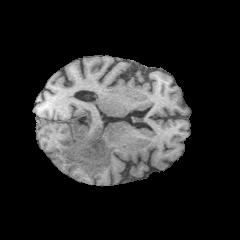glioma: (60, 123, 115, 174)
